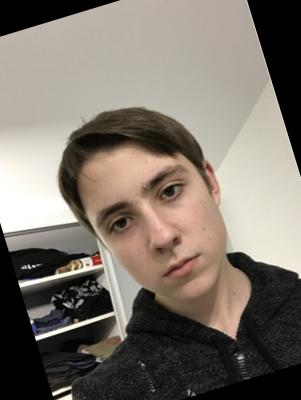without_mask: (83, 152, 244, 322)
